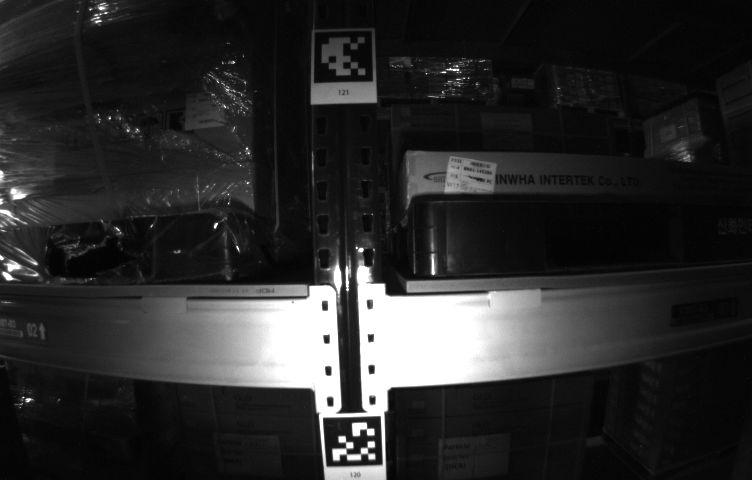True Barcode: (447, 156, 498, 195), (185, 91, 225, 131)
